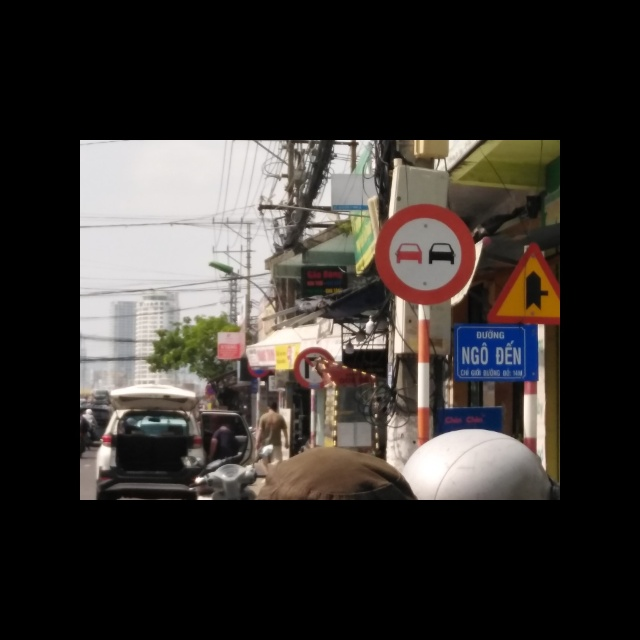Cấm vượt: (373, 200, 476, 303)
Giao nhau với đường không ưu tiên: (487, 242, 559, 328)
